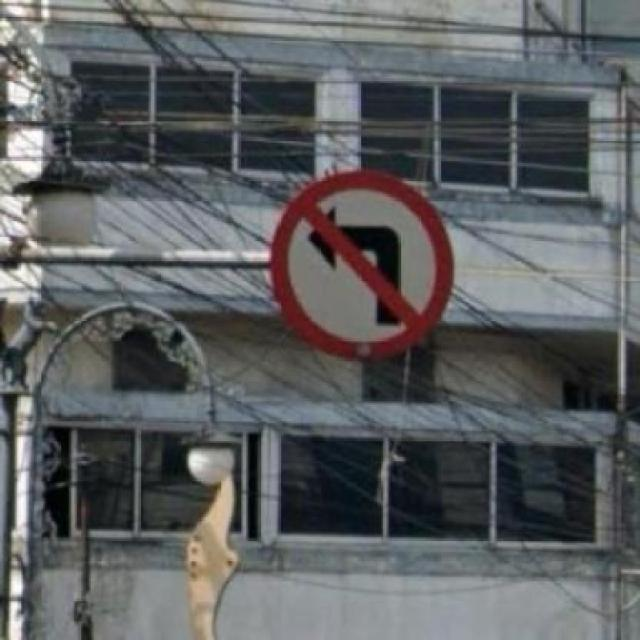left turn prohibited: (266, 168, 457, 364)
